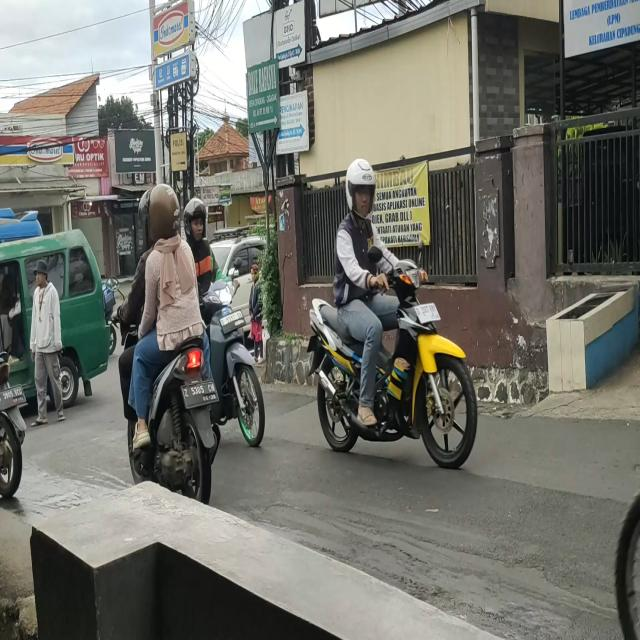helmet: (150, 181, 181, 242), (344, 162, 376, 220), (185, 199, 208, 243), (138, 193, 155, 243)
